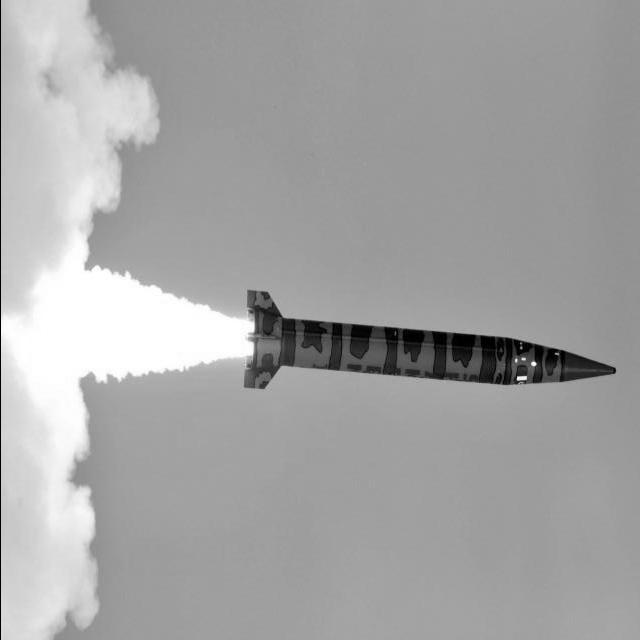missile: (234, 273, 634, 419)
